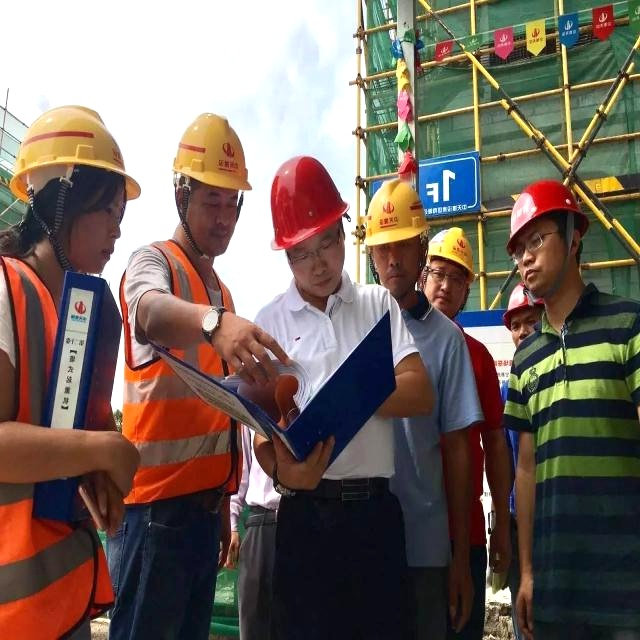Con_Casco: (274, 150, 347, 294), (508, 173, 580, 299)
Sin_Chaleco: (115, 236, 248, 511)
